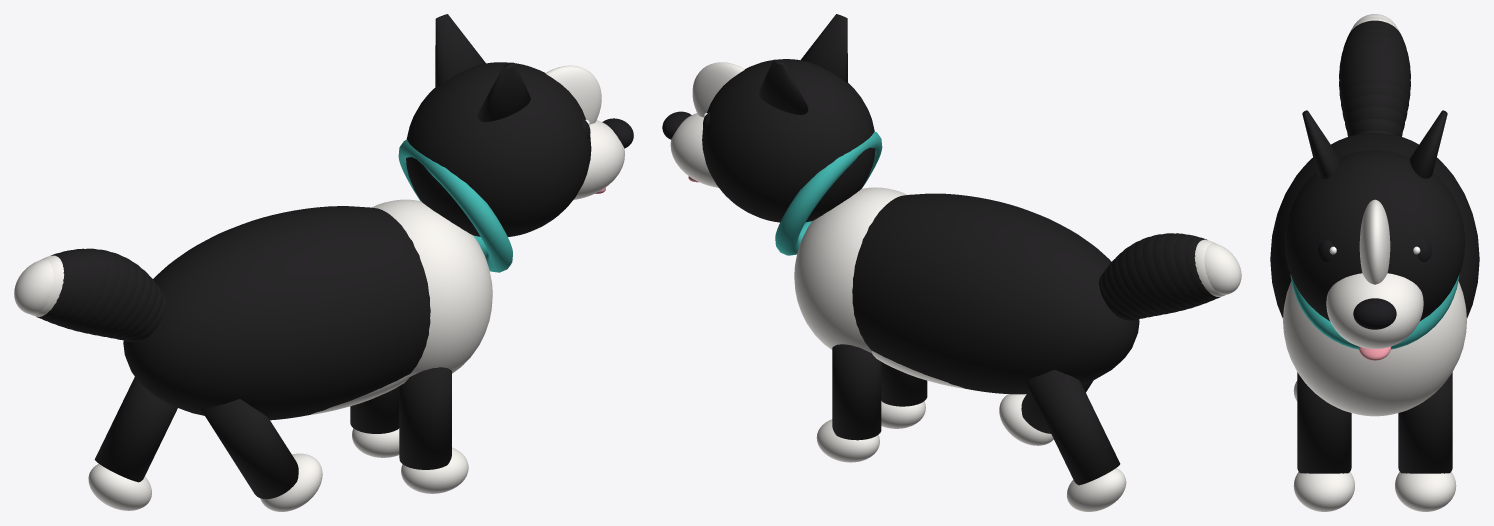
Rendered from border_collie.glb.
3 renders of one model, left to right at view 1: azimuth 30°, elevation 25°; view 2: azimuth 150°, elevation 25°; view 3: azimuth 270°, elevation 25°, orthographic. The views are drawn at different scales.
Parts seen in each view (by area): view 1: Body, Head, Chest, Leg3, Leg1, Leg2, Collar, Muzzle, Ear1, Paw2, Ear-1, Leg0 (+13 smaller); view 2: Body, Head, Chest, Leg2, Leg0, Collar, Muzzle, Ear-1, Paw2, Ear1, Leg1, Paw0 (+12 smaller); view 3: Head, Chest, Body, Muzzle, Leg0, Leg1, Blaze, Paw0, Paw1, Collar, Ear1, Ear-1 (+15 smaller).
Part boxes in pixels (x1,y1,x2,y2): Body: [123, 206, 430, 420]; Head: [406, 62, 591, 236]; Chest: [372, 199, 492, 376]; Leg3: [200, 399, 298, 499]; Leg1: [399, 367, 451, 469]; Leg2: [94, 377, 177, 482]; Collar: [398, 139, 512, 272]; Muzzle: [573, 120, 624, 199]; Ear1: [435, 14, 485, 87]; Paw2: [88, 464, 151, 510]; Ear-1: [477, 62, 530, 121]; Leg0: [350, 386, 399, 433]; Body: [852, 193, 1139, 394]; Head: [702, 59, 875, 222]; Chest: [794, 187, 906, 352]; Leg2: [1026, 370, 1120, 485]; Leg0: [832, 344, 881, 440]; Collar: [775, 131, 882, 255]; Muzzle: [670, 113, 718, 187]; Ear-1: [800, 14, 847, 82]; Paw2: [1067, 468, 1126, 511]; Ear1: [758, 59, 808, 114]; Leg1: [881, 362, 927, 406]; Paw0: [816, 419, 879, 462]; Head: [1284, 150, 1465, 321]; Chest: [1283, 281, 1466, 416]; Body: [1270, 133, 1479, 318]; Muzzle: [1326, 273, 1423, 348]; Leg0: [1398, 372, 1452, 473]; Leg1: [1297, 372, 1351, 473]; Blaze: [1359, 199, 1390, 284]; Paw0: [1395, 472, 1456, 511]; Paw1: [1293, 472, 1354, 511]; Collar: [1290, 274, 1459, 349]; Ear1: [1409, 110, 1447, 178]; Ear-1: [1302, 110, 1340, 178].
Bounding box in the file's own units: 2.02 × 1.31 × 0.58.
